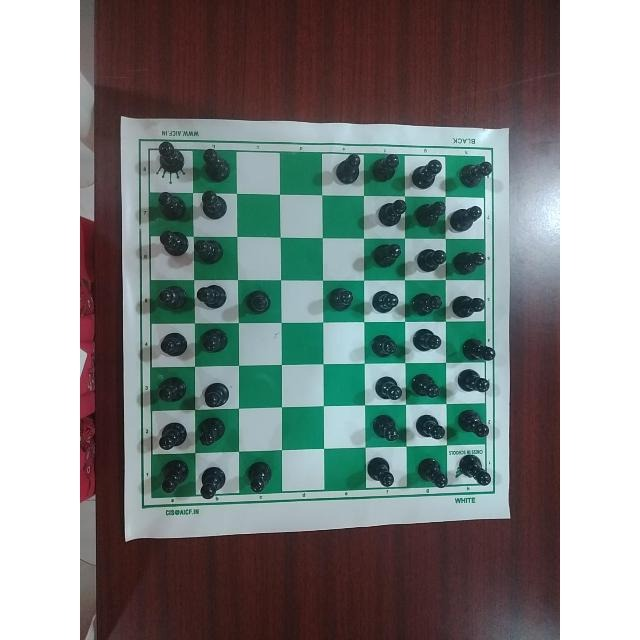black-pawn: (405, 154, 444, 193), (199, 145, 233, 185), (454, 157, 493, 191), (456, 332, 498, 363), (456, 453, 492, 489), (194, 415, 228, 453), (451, 409, 489, 443), (198, 461, 231, 500), (368, 149, 400, 189), (152, 141, 185, 179), (453, 368, 492, 400), (365, 453, 400, 488), (414, 453, 448, 489), (408, 287, 446, 319), (193, 234, 227, 269), (194, 282, 232, 313), (197, 188, 231, 222), (159, 459, 191, 495), (331, 150, 362, 186), (153, 189, 189, 220), (156, 328, 189, 361), (155, 374, 189, 406), (157, 421, 189, 455), (447, 203, 482, 234), (450, 288, 486, 318), (409, 369, 442, 401), (368, 411, 400, 444), (369, 240, 404, 270), (412, 413, 444, 445), (372, 370, 403, 403), (452, 246, 488, 273), (326, 283, 356, 315), (369, 286, 399, 318), (246, 459, 274, 493), (242, 286, 274, 315), (156, 228, 189, 256), (411, 327, 444, 355), (377, 197, 407, 227), (414, 199, 444, 229), (415, 246, 447, 274), (368, 331, 400, 359), (198, 327, 229, 355), (200, 380, 230, 408), (157, 285, 189, 311)
